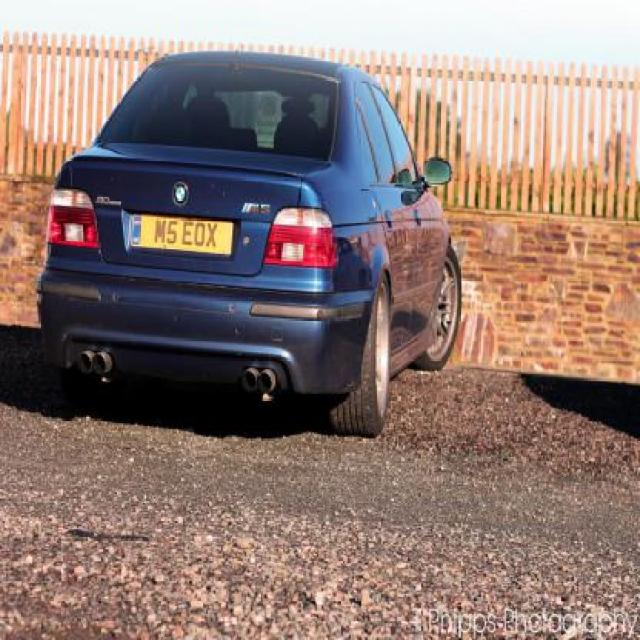License-Plates: (132, 207, 236, 256)
